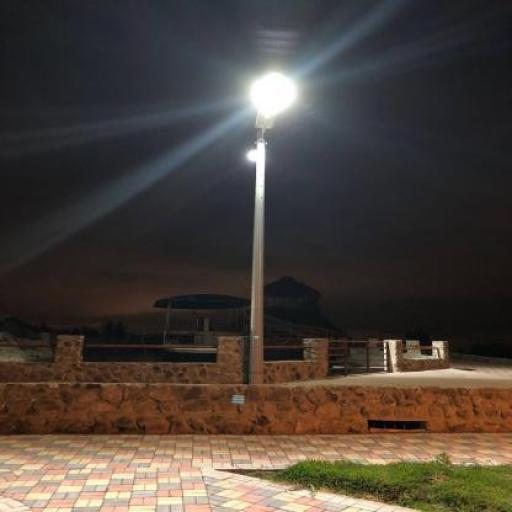street light: (242, 72, 298, 384)
